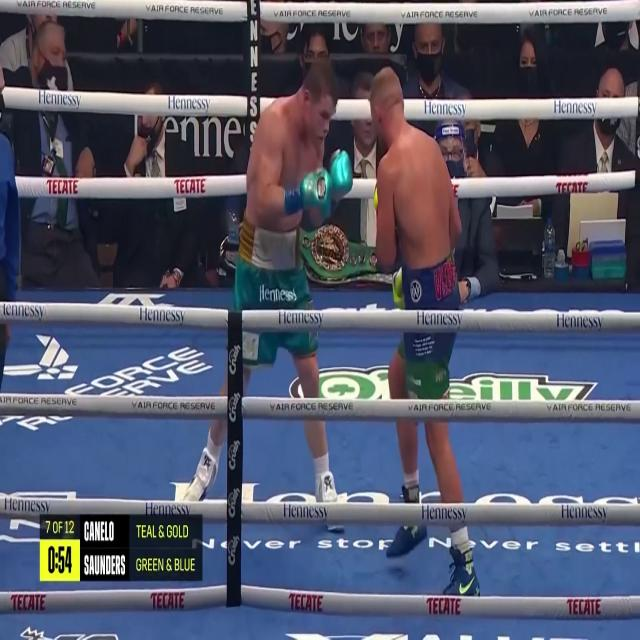boxer_1: (371, 67, 462, 269)
boxer_2: (245, 61, 337, 232)
gloves_2: (284, 149, 353, 217)
